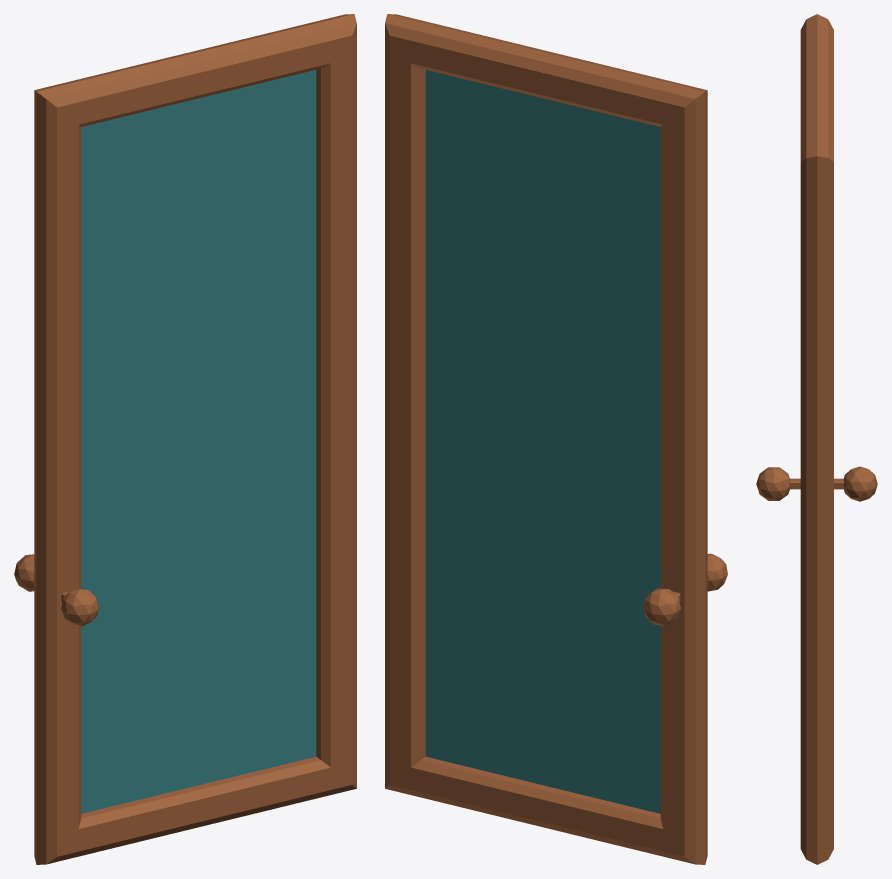
File: door_leaf.glb
3 renders of one model, left to right at view 1: azimuth 30°, elevation 25°; view 2: azimuth 150°, elevation 25°; view 3: azimuth 270°, elevation 25°, orthographic. The views are drawn at different scales.
Parts seen in each view (by area): view 1: Door A; view 2: Door A; view 3: Door A.
Part boxes in pixels (<box>): Door A: <box>14,14,356,864</box>; Door A: <box>385,14,727,864</box>; Door A: <box>756,14,877,864</box>.
Bounding box in the file's own units: 0.8494 × 1.97 × 0.3068.
